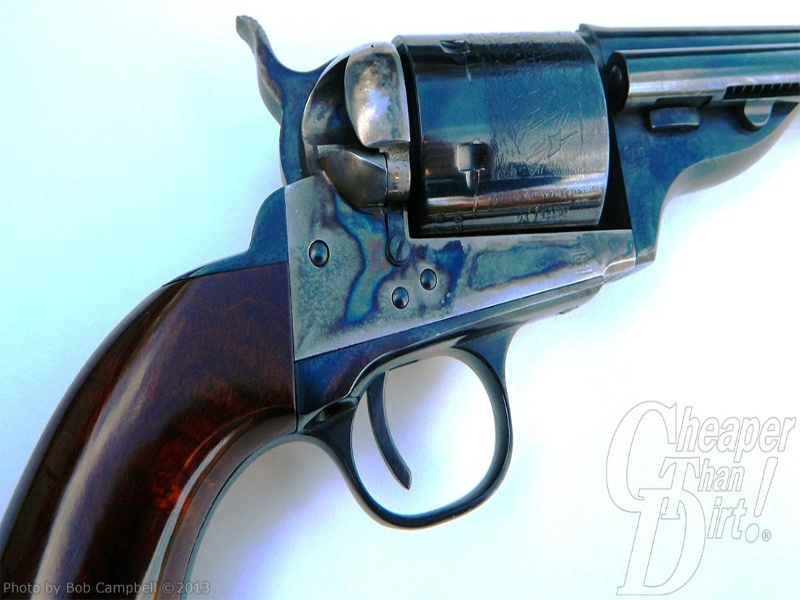gun: (4, 6, 795, 591)
